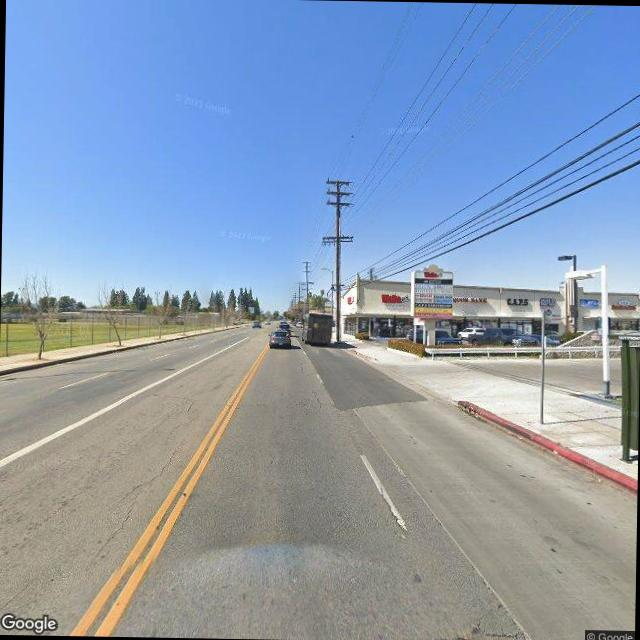pothole: (96, 420, 186, 559)
